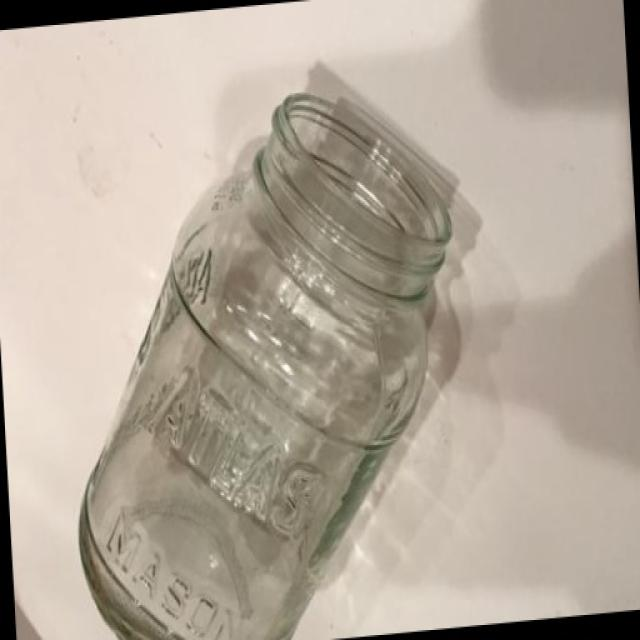vidrio: (41, 49, 540, 640)
